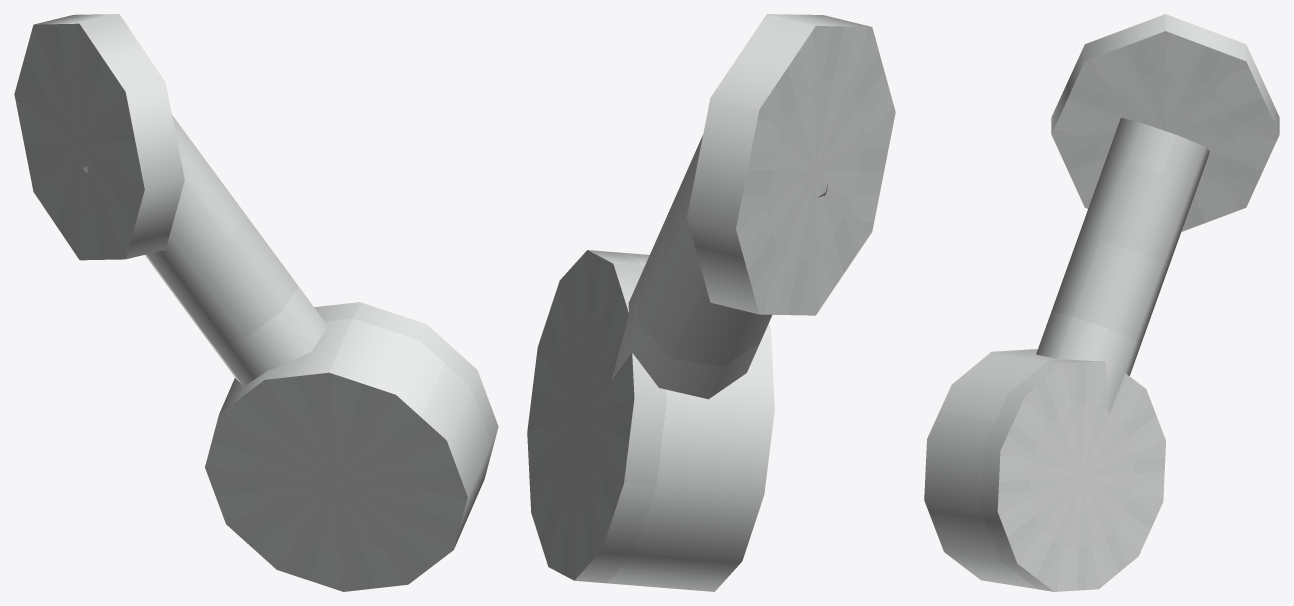
Rendered from nycsignalarm_stub_231.obj.
3 views of the same model, side by side, from view 1: azimuth 30°, elevation 25°; view 2: azimuth 150°, elevation 25°; view 3: azimuth 270°, elevation 25° (orthographic). The views are drawn at different scales.
Parts seen in each view (by area): view 1: nycsignalarm_stub_231; view 2: nycsignalarm_stub_231; view 3: nycsignalarm_stub_231.
Part boxes in pixels (box(x1,y1,x2,y2)): nycsignalarm_stub_231: box(14, 14, 498, 591); nycsignalarm_stub_231: box(527, 14, 895, 591); nycsignalarm_stub_231: box(924, 14, 1279, 591).
Bounding box in the file's own units: 0.5048 × 0.8204 × 0.5449.
